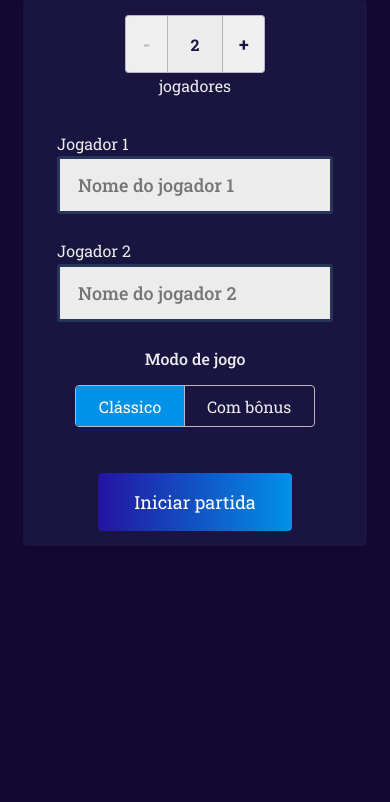
Test: cadastro de jogadores › ignora um valor acima do máximo de jogadores
Replace the text in the number field with "99" at coordinates (195, 44), box [167, 15, 223, 73]
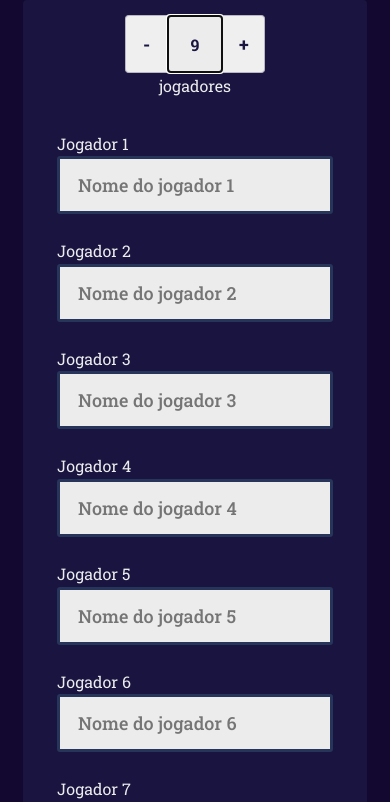
Expected: the number field holds "9", [167, 15, 223, 73]
